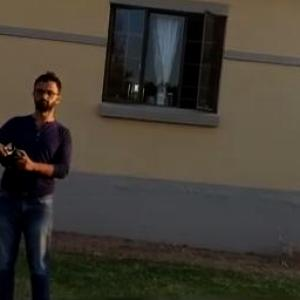follow: (0, 66, 82, 298)
null: (267, 226, 299, 272)
